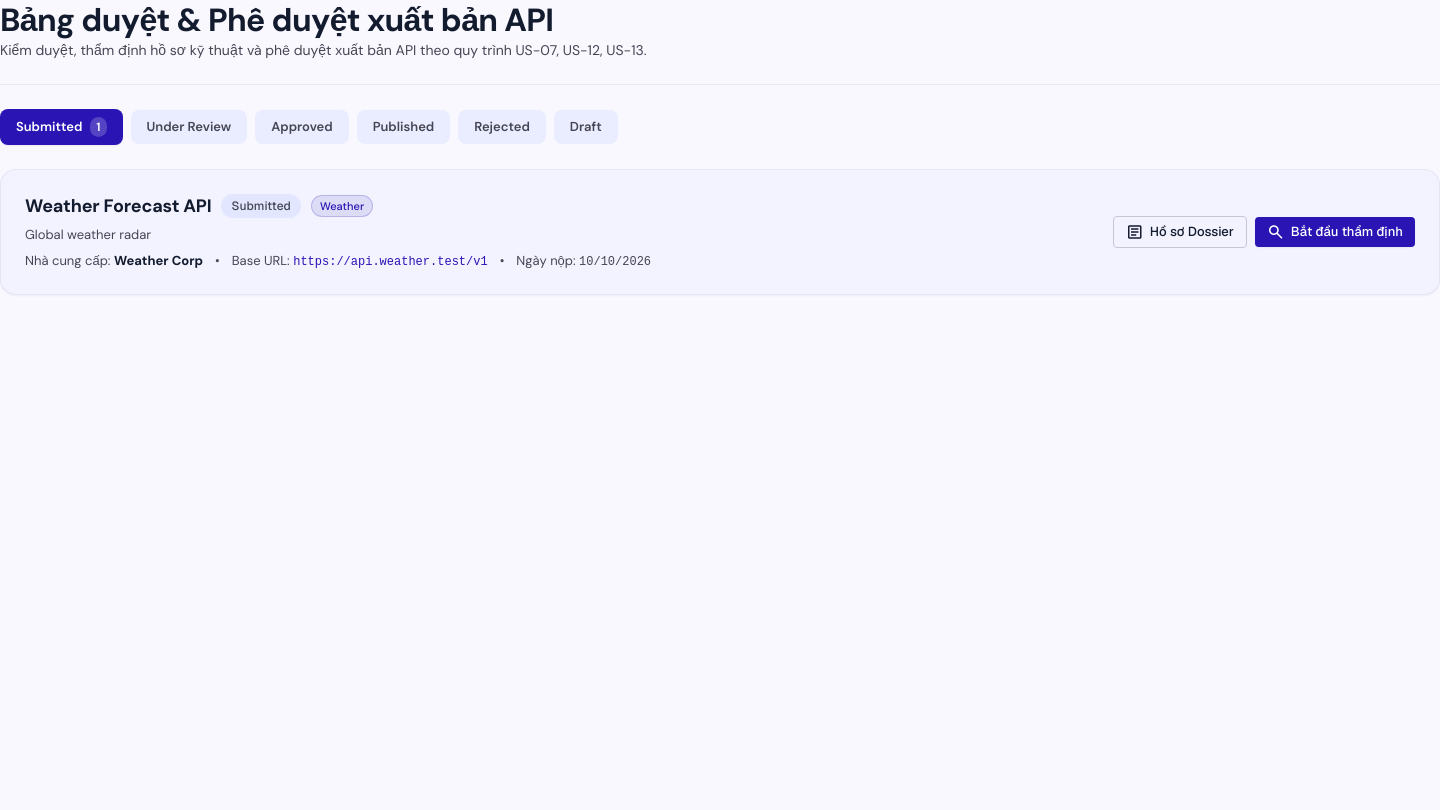
Test case: Admin Console Pages session isolation tests (Admin A -> Admin B) › Finding F3: Admin dossier DNS verification tests › displays expired status when verification has expired
The width and height of the screenshot is (1440, 810).
Expected: the heading "Weather Forecast API" is shown, [25,194,212,218]
Click the button "Hồ sơ Dossier" at (1180, 232), box [1113,216,1247,248]
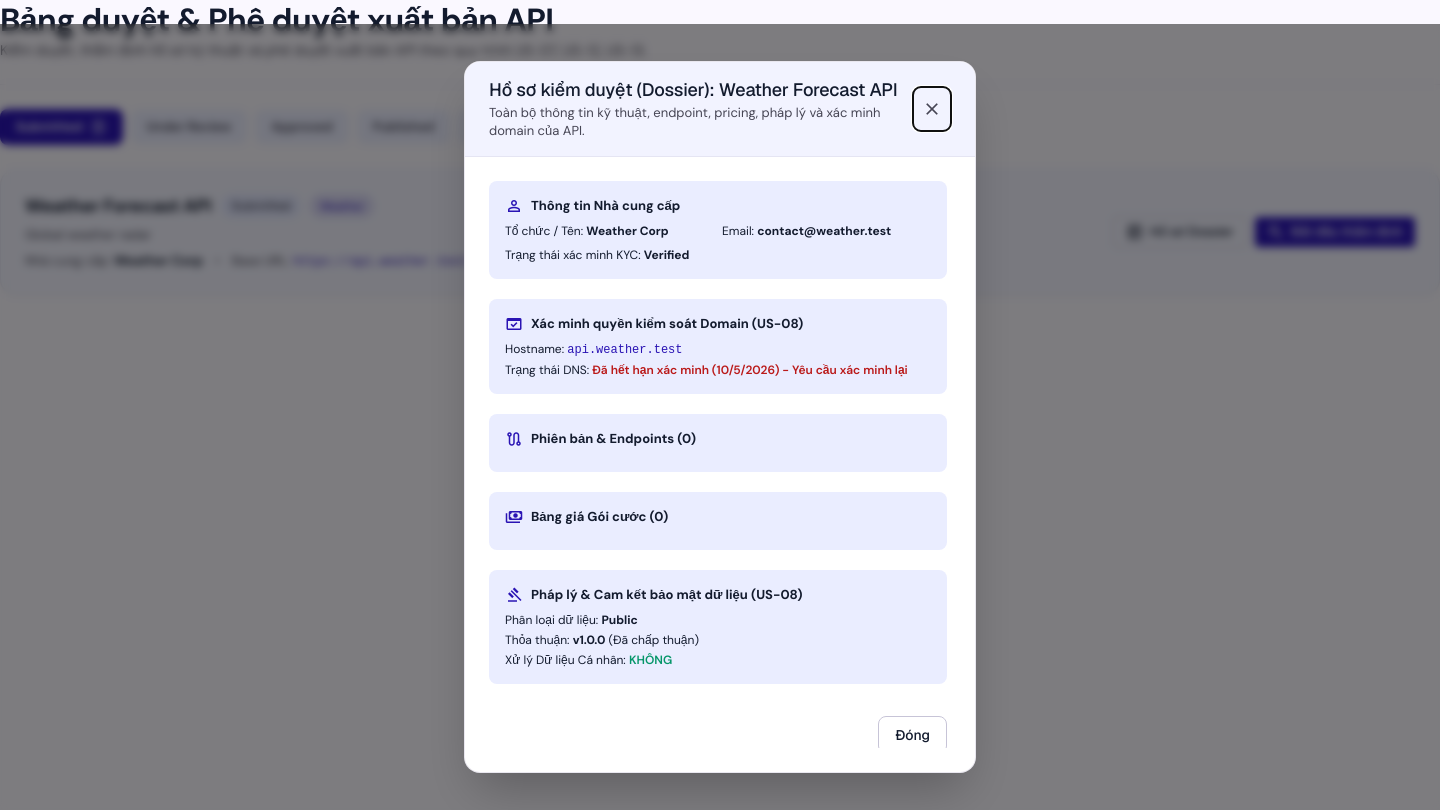
Expected: the heading "Xác minh quyền kiểm soát Domain (US-08)" is shown, [505,313,803,335]
Expected: the text "Đã hết hạn xác minh (10/5/2026) - Yêu cầu xác minh lại" is shown, [592,362,908,378]
